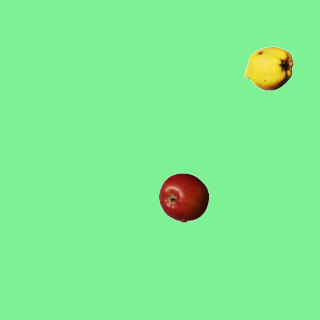Apple Braeburn: (158, 172, 208, 222)
Quince: (243, 43, 293, 93)
